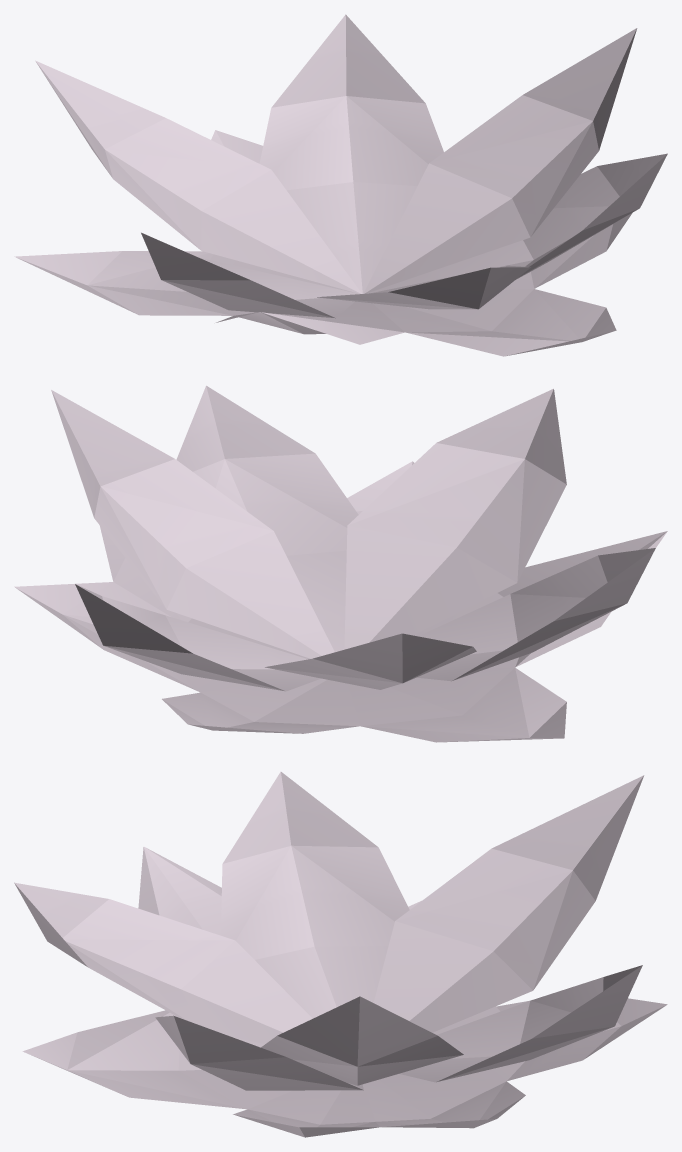
File: lotus_white.glb
3 renders of one model, top to bottom at view 1: azimuth 30°, elevation 25°; view 2: azimuth 150°, elevation 25°; view 3: azimuth 270°, elevation 25°, orthographic. The views are drawn at different scales.
Parts seen in each view (by area): view 1: Water Lily Flower_B; view 2: Water Lily Flower_B; view 3: Water Lily Flower_B.
Boxes of the visible parts, bbox=[...] form: Water Lily Flower_B: bbox=[14, 14, 667, 356]; Water Lily Flower_B: bbox=[14, 385, 667, 742]; Water Lily Flower_B: bbox=[14, 771, 667, 1137].
Bounding box in the file's own units: 0.35 × 0.12 × 0.34.
Materials: 1 (1 with a texture image).
